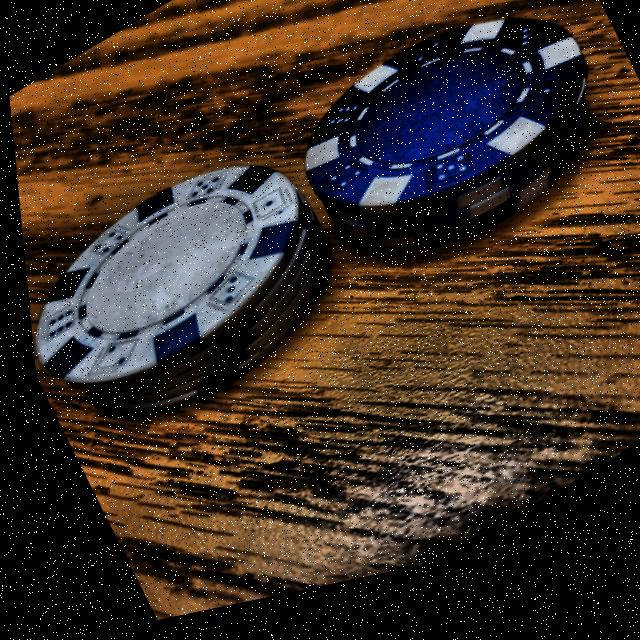Chip: (223, 0, 640, 362), (12, 97, 395, 489)
